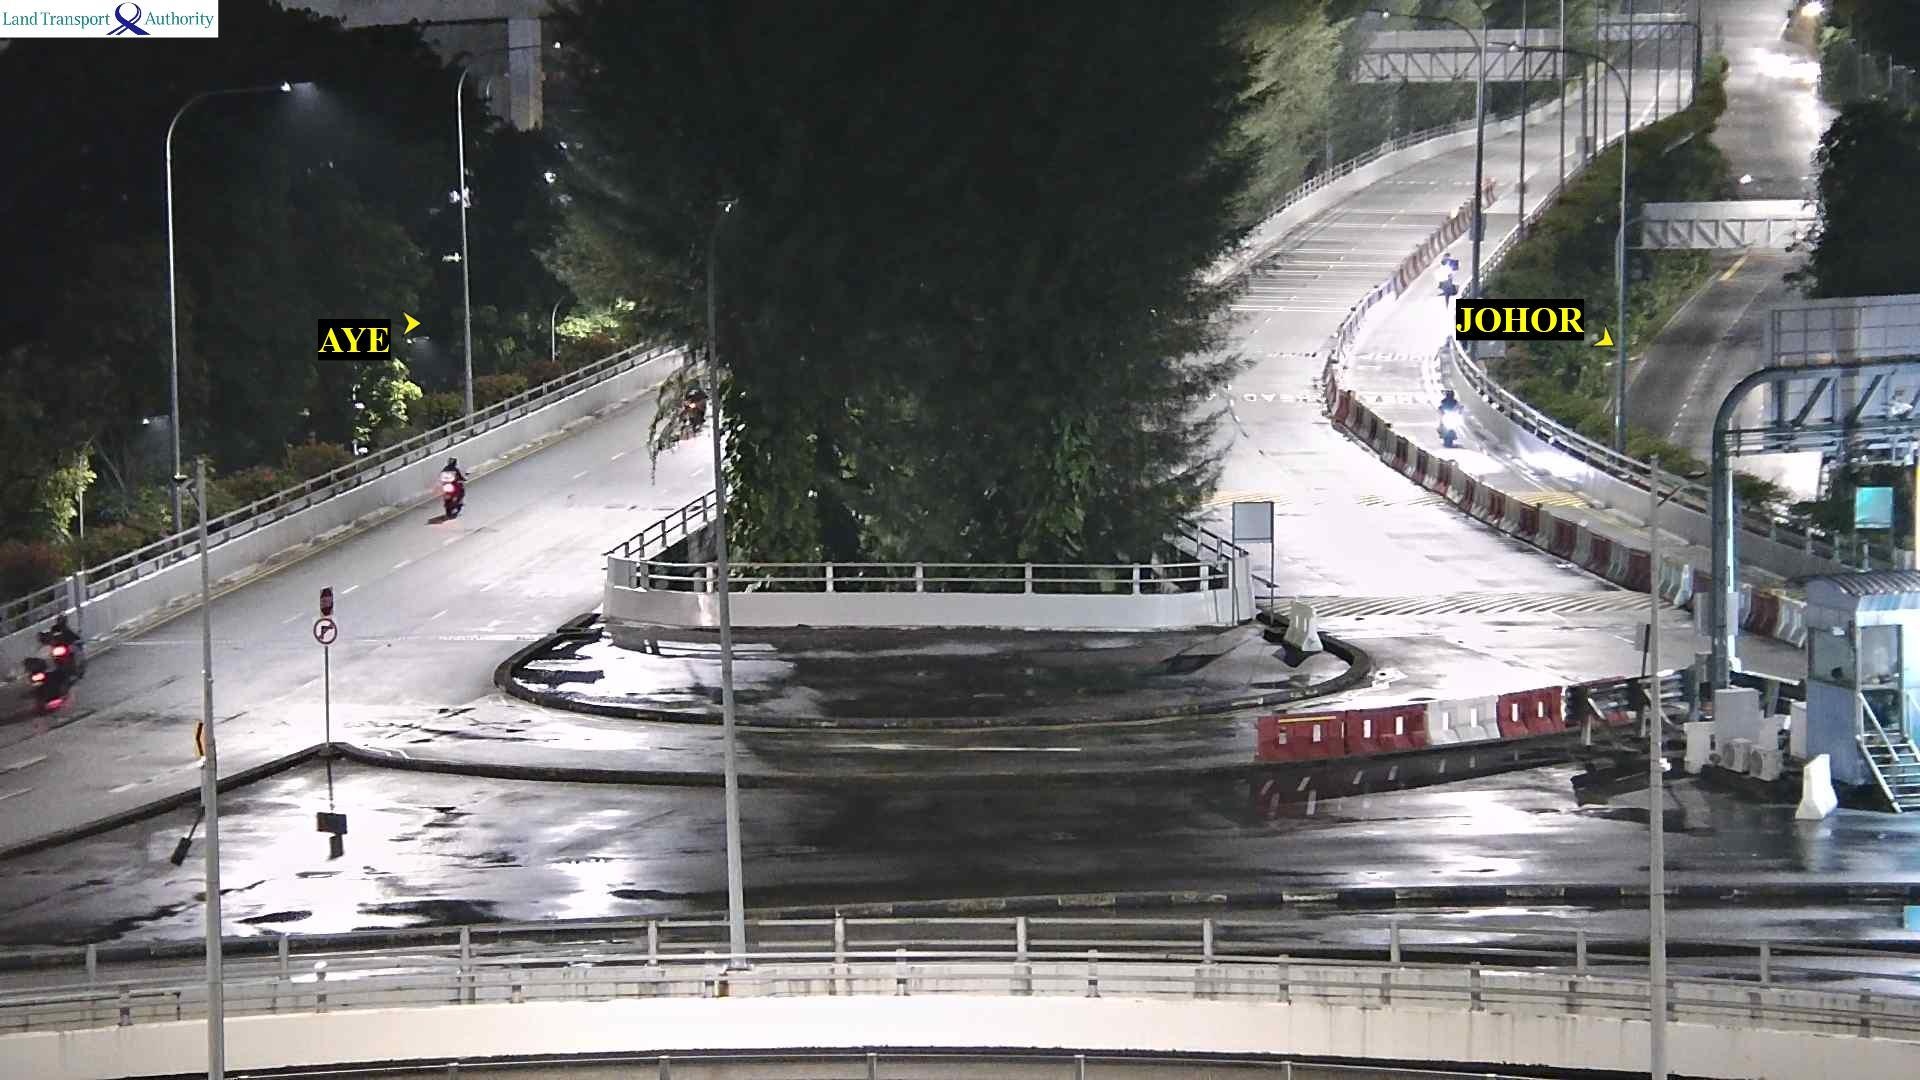vehicle-secondlink-johor: (1436, 384, 1462, 443), (1440, 258, 1460, 313)
vehicle-secondlink-singapore: (17, 650, 84, 721), (443, 455, 463, 502)
